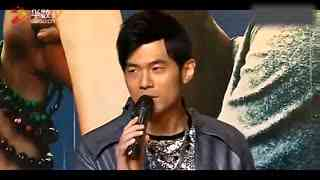face: (121, 43, 182, 111)
